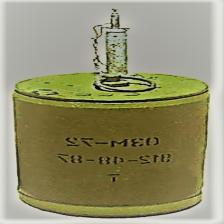OZM-72: (15, 65, 204, 218)
